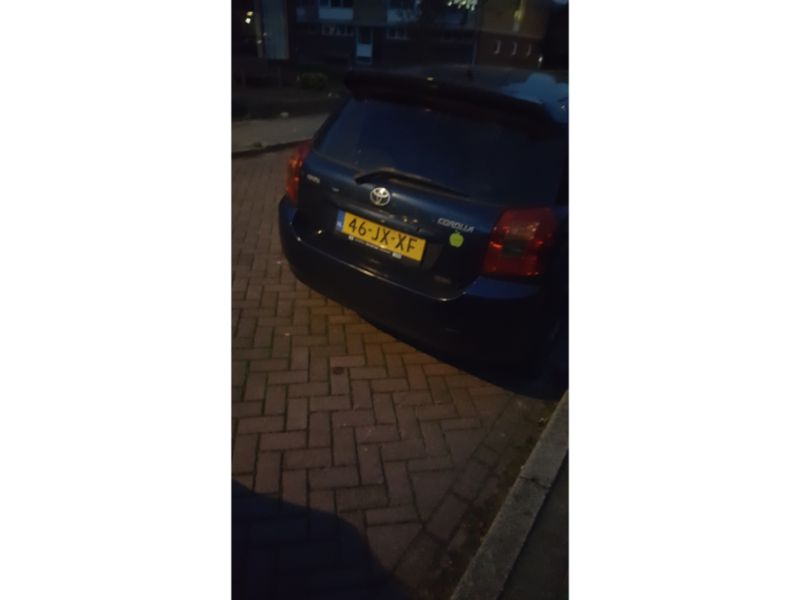kenteken: (335, 212, 427, 266)
